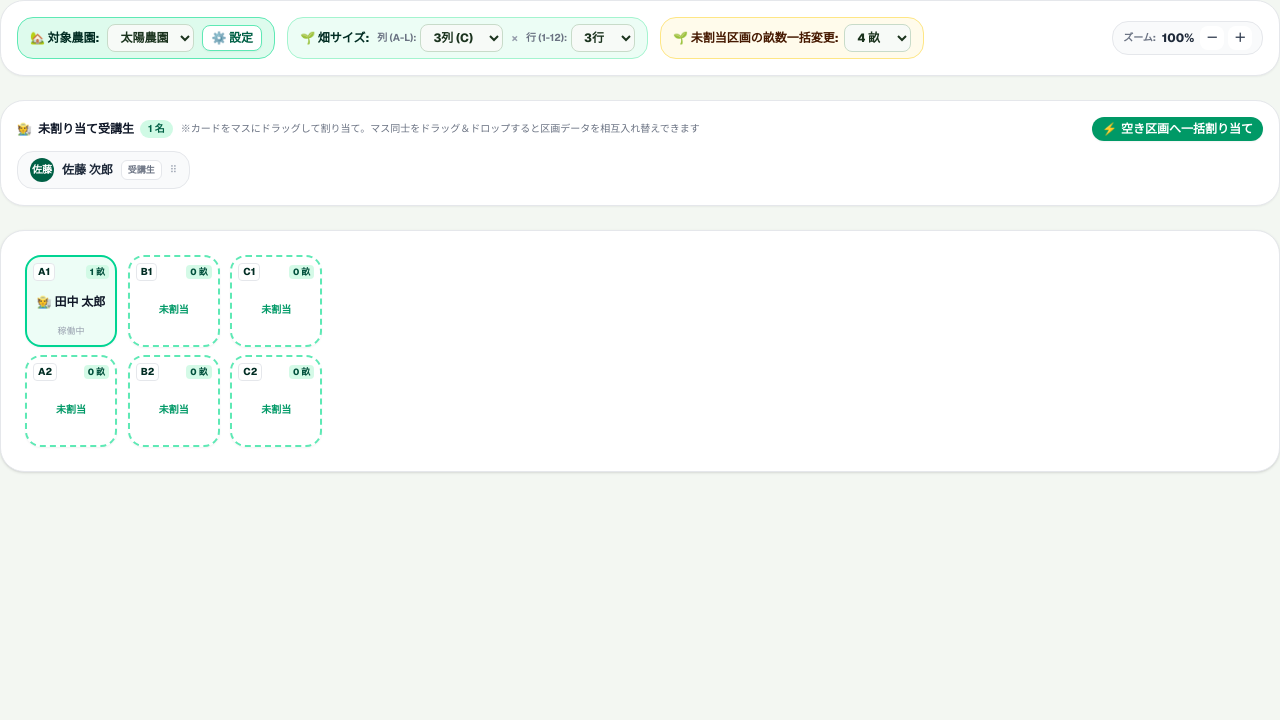
Test case: B2a: PlotDetailModal 特性テスト (TeacherFarmCanvasView 経由) › 2. ヘッダーの閉じるボタン (✕) でモーダルが閉じること
Expected: the text "A1" is shown, x1=38 y1=265 x2=50 y2=278
Click the text "A1" at {"x": 71, "y": 301}, box x1=25 y1=255 x2=117 y2=347
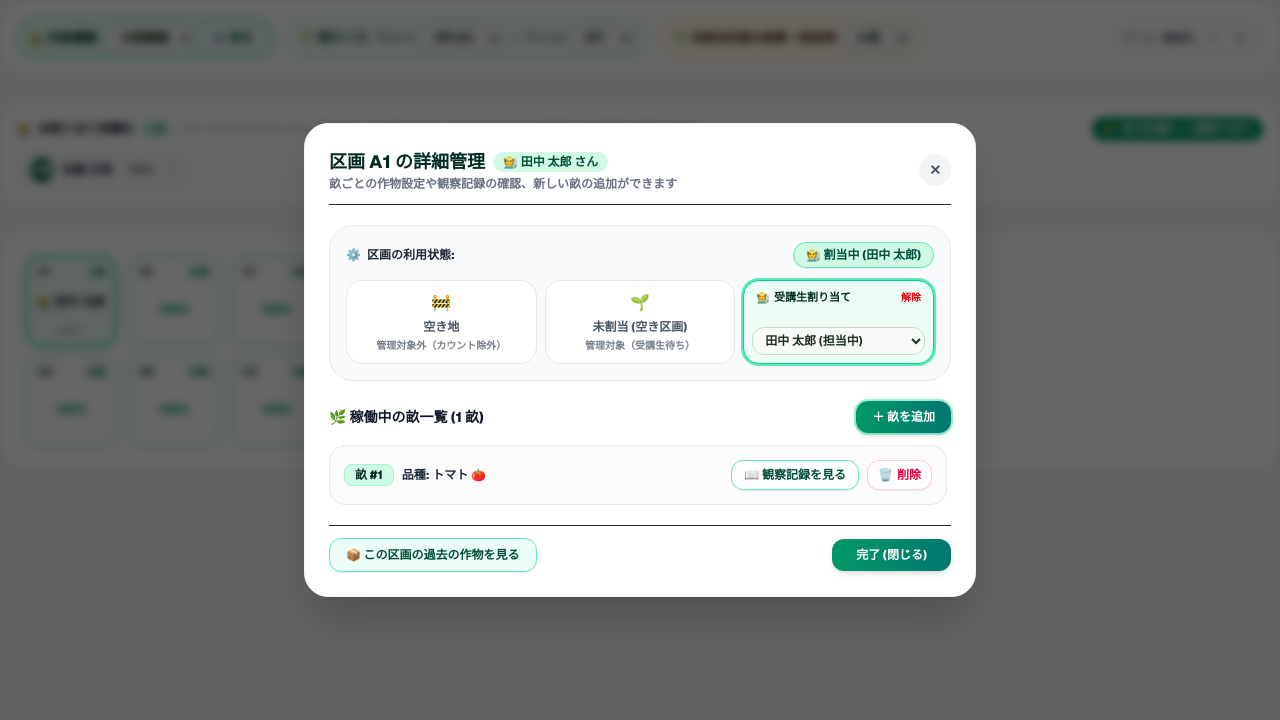
Expected: the text "区画 A1 の詳細管理" is shown, x1=329 y1=148 x2=485 y2=176
Click the button "✕" at {"x": 935, "y": 170}, box x1=919 y1=154 x2=951 y2=186
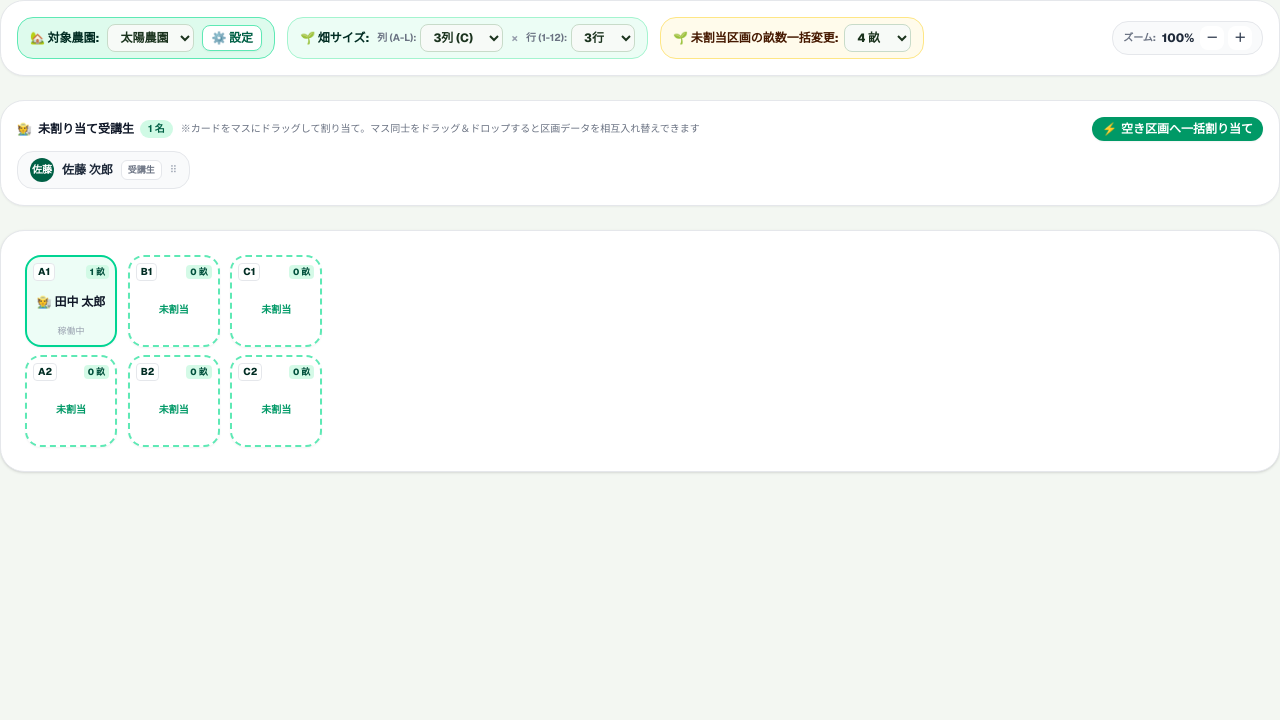
Expected: the text "区画 A1 の詳細管理" is gone
